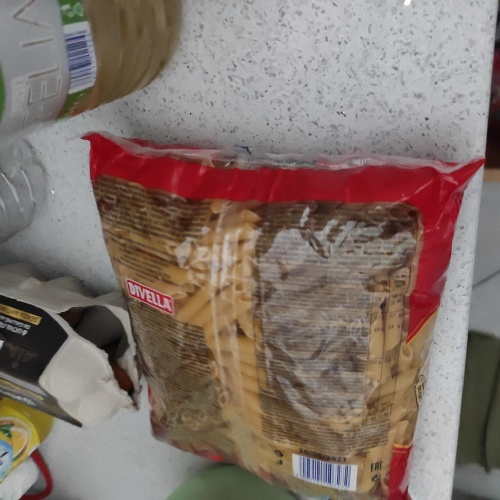pasta: (137, 164, 455, 456)
